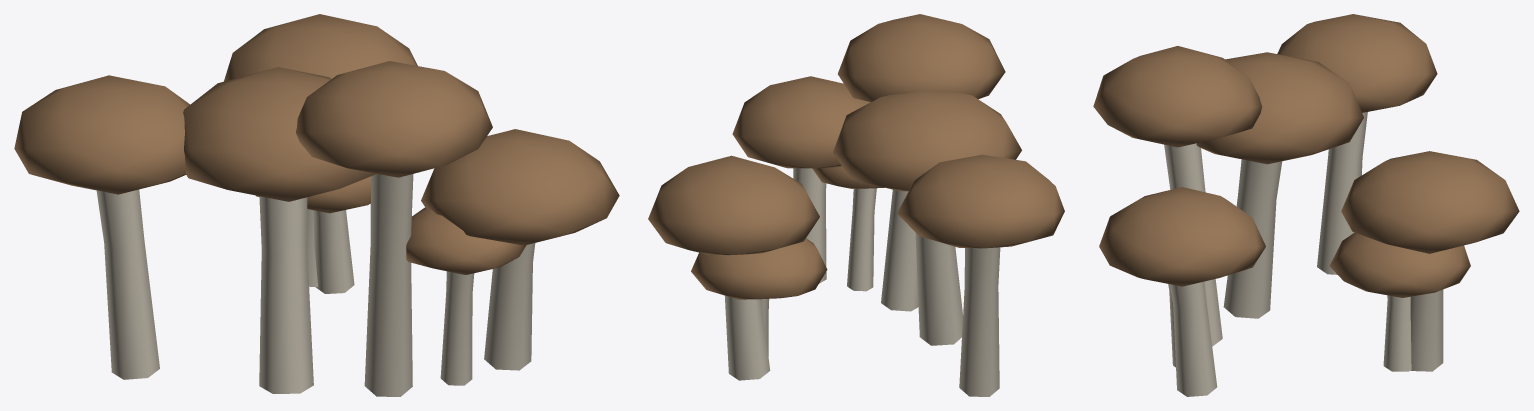
Rendered from brown_mushrooms_1.glb.
3 views of the same model, side by side, from view 1: azimuth 30°, elevation 25°; view 2: azimuth 150°, elevation 25°; view 3: azimuth 270°, elevation 25° (orthographic). The views are drawn at different scales.
Visible parts, largest first — view 1: brown_mushrooms_1; view 2: brown_mushrooms_1; view 3: brown_mushrooms_1.
Part boxes in pixels (bbox=[...]): brown_mushrooms_1: bbox=[14, 14, 619, 396]; brown_mushrooms_1: bbox=[648, 14, 1064, 396]; brown_mushrooms_1: bbox=[1093, 14, 1519, 396].
Bounding box in the file's own units: 0.2834 × 0.1884 × 0.2594.
